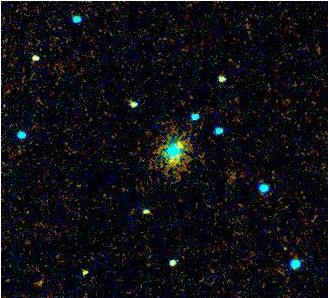star: (72, 261, 102, 291)
